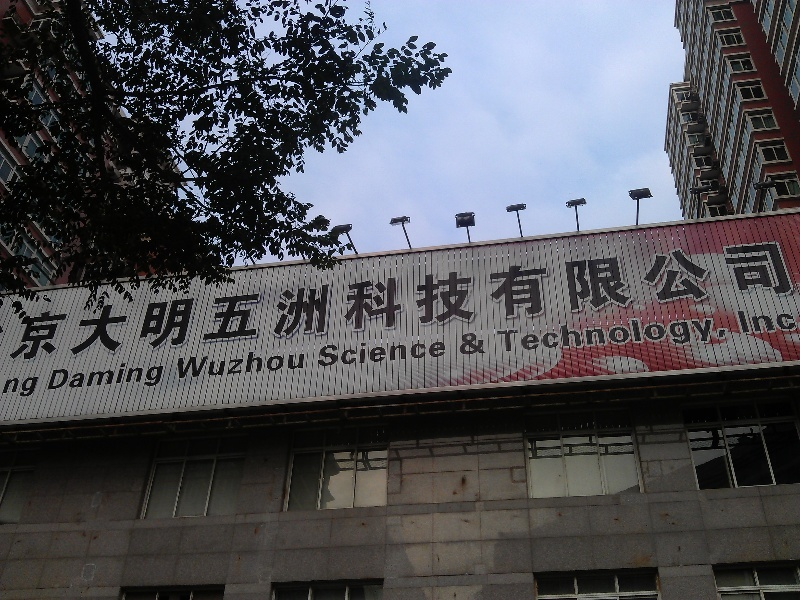text: (33, 239, 48, 365), (49, 239, 64, 365), (65, 239, 80, 365), (81, 239, 96, 365), (97, 239, 112, 365), (113, 239, 128, 365), (129, 239, 144, 365), (145, 239, 160, 365), (161, 239, 176, 365), (177, 239, 192, 365), (193, 239, 208, 365), (209, 239, 224, 365), (225, 239, 240, 365), (241, 239, 256, 365), (257, 239, 272, 365), (273, 239, 288, 365), (289, 239, 304, 365), (305, 239, 320, 365), (321, 239, 336, 365), (337, 239, 352, 365), (353, 239, 368, 365), (369, 239, 384, 365), (385, 239, 400, 365), (401, 239, 416, 365), (417, 239, 432, 365), (433, 239, 448, 365), (449, 239, 464, 365), (465, 239, 480, 365), (481, 239, 496, 365), (497, 239, 512, 365), (513, 239, 528, 365), (529, 239, 544, 365), (545, 239, 560, 365), (561, 239, 576, 365), (577, 239, 592, 365), (593, 239, 608, 365), (609, 239, 624, 365), (625, 239, 640, 365), (641, 239, 656, 365), (657, 239, 672, 365), (673, 239, 688, 365), (689, 239, 704, 365), (705, 239, 720, 365), (721, 239, 736, 365), (737, 239, 752, 365), (753, 239, 768, 365), (769, 239, 784, 365), (785, 239, 797, 365), (26, 239, 32, 365), (497, 312, 512, 360), (513, 312, 528, 360), (529, 312, 544, 360), (545, 312, 560, 360), (561, 312, 576, 360), (577, 312, 592, 360), (593, 312, 608, 360), (609, 312, 624, 360), (625, 312, 640, 360), (641, 312, 656, 360), (657, 312, 672, 360), (673, 312, 688, 360), (689, 312, 704, 360), (705, 312, 720, 360), (49, 357, 64, 398), (65, 357, 80, 398), (81, 357, 96, 398), (97, 357, 112, 398), (113, 357, 128, 398), (129, 357, 144, 398), (145, 357, 160, 398), (177, 345, 192, 382), (193, 345, 208, 382), (209, 345, 224, 382), (225, 345, 240, 382), (241, 345, 256, 382), (257, 345, 272, 382), (273, 345, 288, 382), (289, 345, 304, 382), (721, 312, 731, 360), (321, 338, 336, 369), (337, 338, 352, 369), (353, 338, 368, 369), (369, 338, 384, 369), (385, 338, 400, 369), (401, 338, 416, 369), (417, 338, 432, 369), (753, 306, 768, 336), (769, 306, 784, 336), (738, 306, 752, 336), (785, 306, 799, 336), (433, 338, 446, 369), (465, 333, 480, 357), (17, 376, 32, 399), (3, 376, 16, 399), (161, 357, 168, 398), (44, 357, 48, 398), (33, 376, 40, 399), (458, 333, 464, 357), (481, 333, 487, 357), (305, 345, 308, 382), (318, 338, 320, 369), (495, 312, 496, 360)
